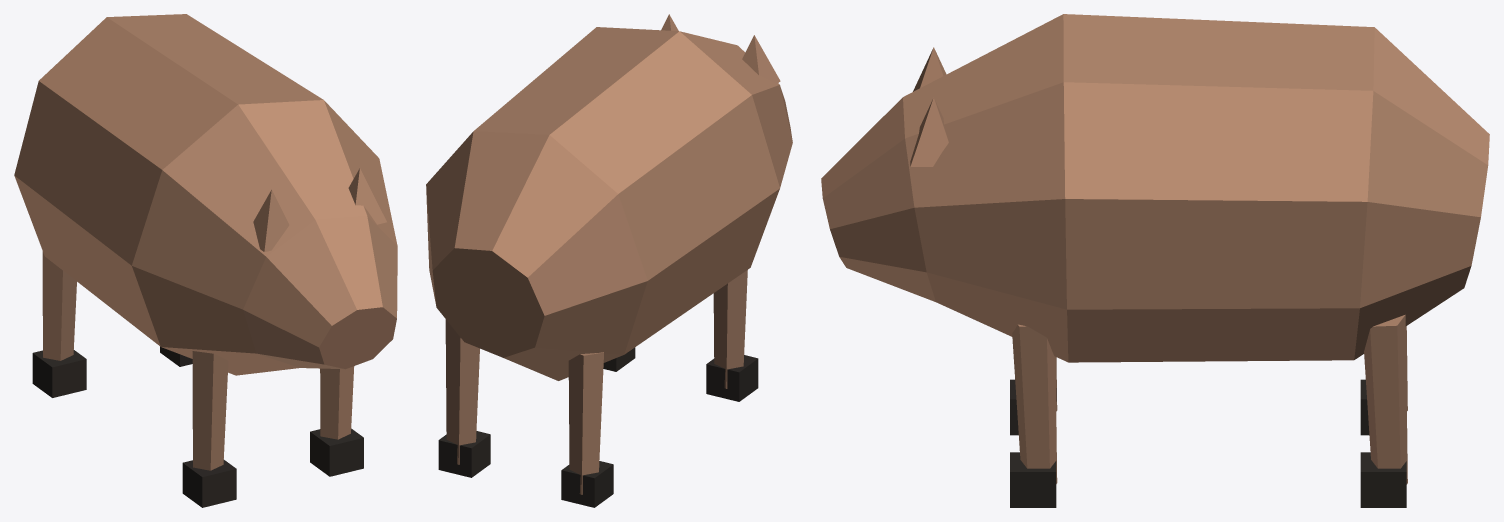
Rendered from walk_animal_pig.glb.
3 renders of one model, left to right at view 1: azimuth 30°, elevation 25°; view 2: azimuth 150°, elevation 25°; view 3: azimuth 270°, elevation 25°, orthographic. The views are drawn at different scales.
Visible parts, largest first — view 1: walk_animal_pig; view 2: walk_animal_pig; view 3: walk_animal_pig.
Part boxes in pixels (bbox=[...]): walk_animal_pig: bbox=[14, 14, 397, 507]; walk_animal_pig: bbox=[426, 14, 792, 507]; walk_animal_pig: bbox=[821, 14, 1489, 507].
Bounding box in the file's own units: 0.5043 × 0.7259 × 1.01.
1 material, 1 textured.
